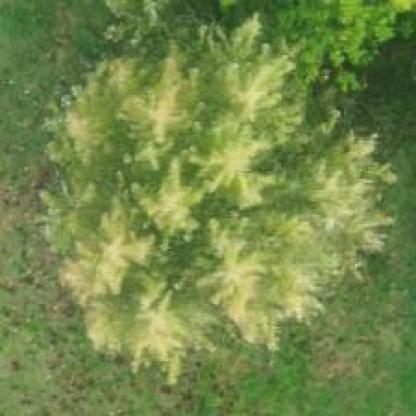Coniferous Tree: (21, 25, 398, 368)
